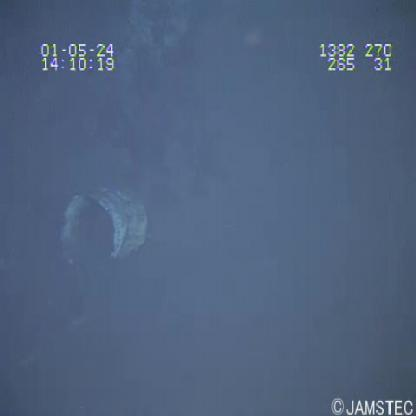Rác: (56, 184, 152, 272)
